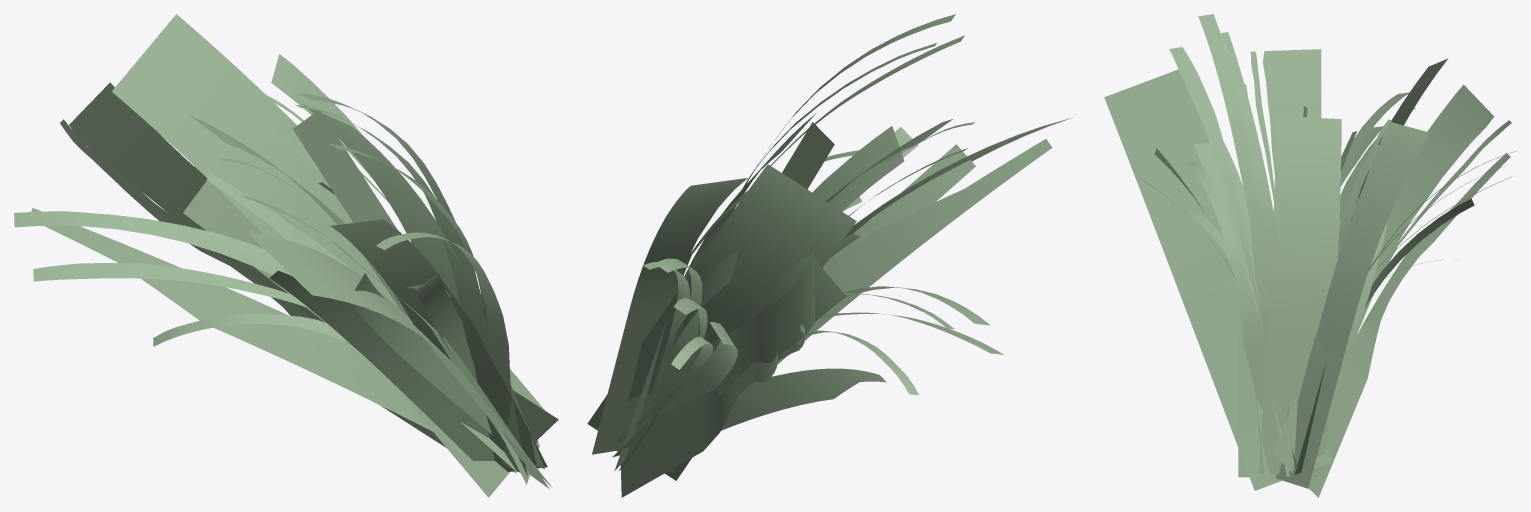
The model's file is SM_ocean_eelGrass_03.fbx.
The picture shows the model from 3 angles, left to right: view 1: azimuth 30°, elevation 25°; view 2: azimuth 150°, elevation 25°; view 3: azimuth 270°, elevation 25°; orthographic projection. The views are drawn at different scales.
Visible parts, largest first — view 1: SM_ocean_eelGrass_03_LOD0; view 2: SM_ocean_eelGrass_03_LOD0; view 3: SM_ocean_eelGrass_03_LOD0.
Part boxes in pixels (bbox=[...]): SM_ocean_eelGrass_03_LOD0: bbox=[14, 14, 558, 497]; SM_ocean_eelGrass_03_LOD0: bbox=[587, 14, 1072, 497]; SM_ocean_eelGrass_03_LOD0: bbox=[1104, 14, 1516, 497].
Size of what is drawn, in the model's own units: 173 by 170 by 174.
